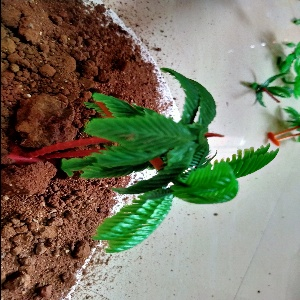plant: (4, 71, 242, 254)
